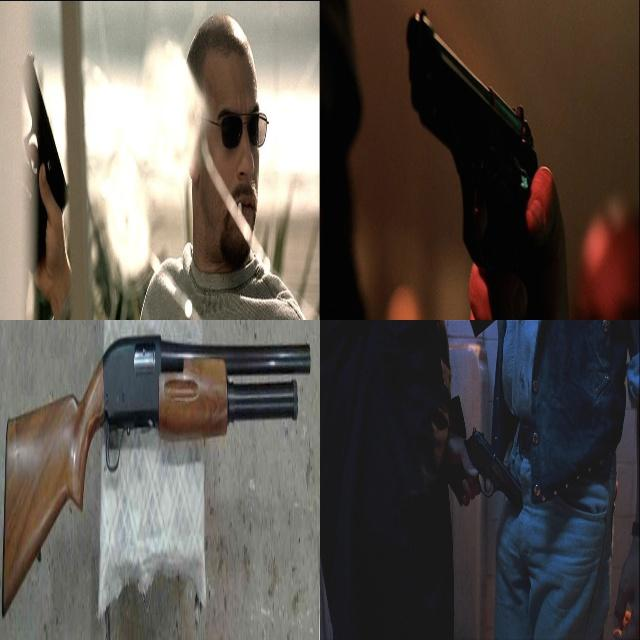gun: (0, 319, 311, 612), (402, 0, 547, 319), (22, 65, 65, 261), (445, 418, 524, 520)
